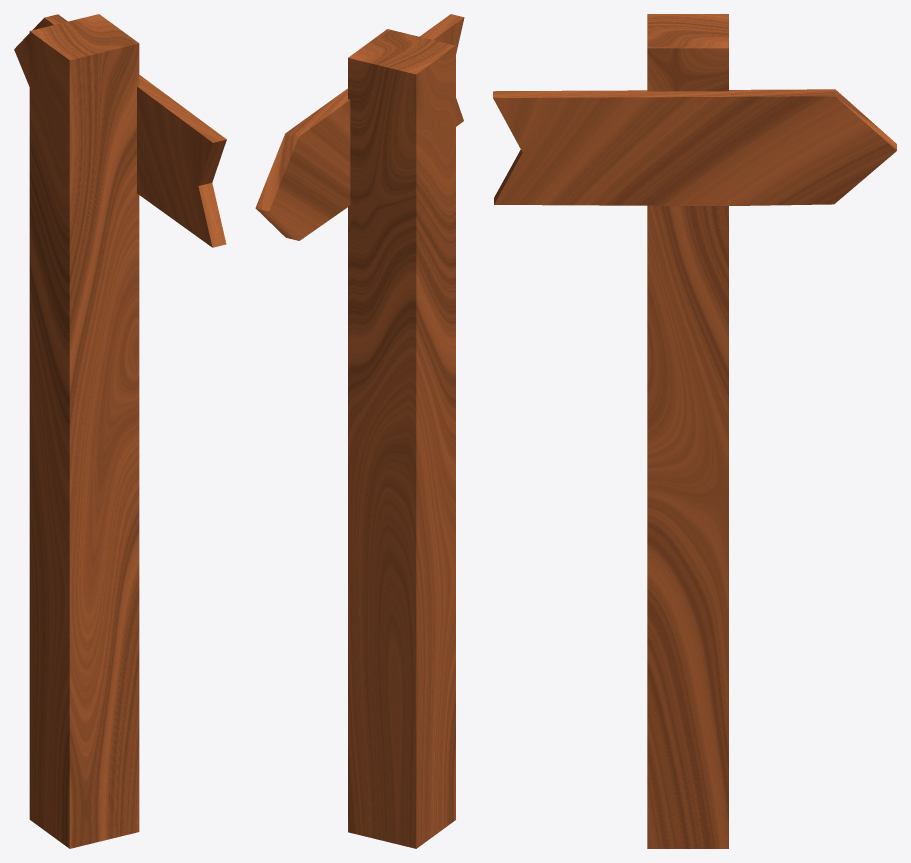
The model's file is Sign1.fbx.
3 renders of one model, left to right at view 1: azimuth 30°, elevation 25°; view 2: azimuth 150°, elevation 25°; view 3: azimuth 270°, elevation 25°, orthographic. The views are drawn at different scales.
Visible parts, largest first — view 1: Cube.008; view 2: Cube.008; view 3: Cube.008.
Part boxes in pixels (left/top/right/bottom): Cube.008: left=14, top=14, right=226, bottom=848; Cube.008: left=255, top=14, right=464, bottom=848; Cube.008: left=493, top=14, right=896, bottom=848.
Size of the model in its own units: 20.95 by 195 by 88.99.
1 material, 1 textured.
